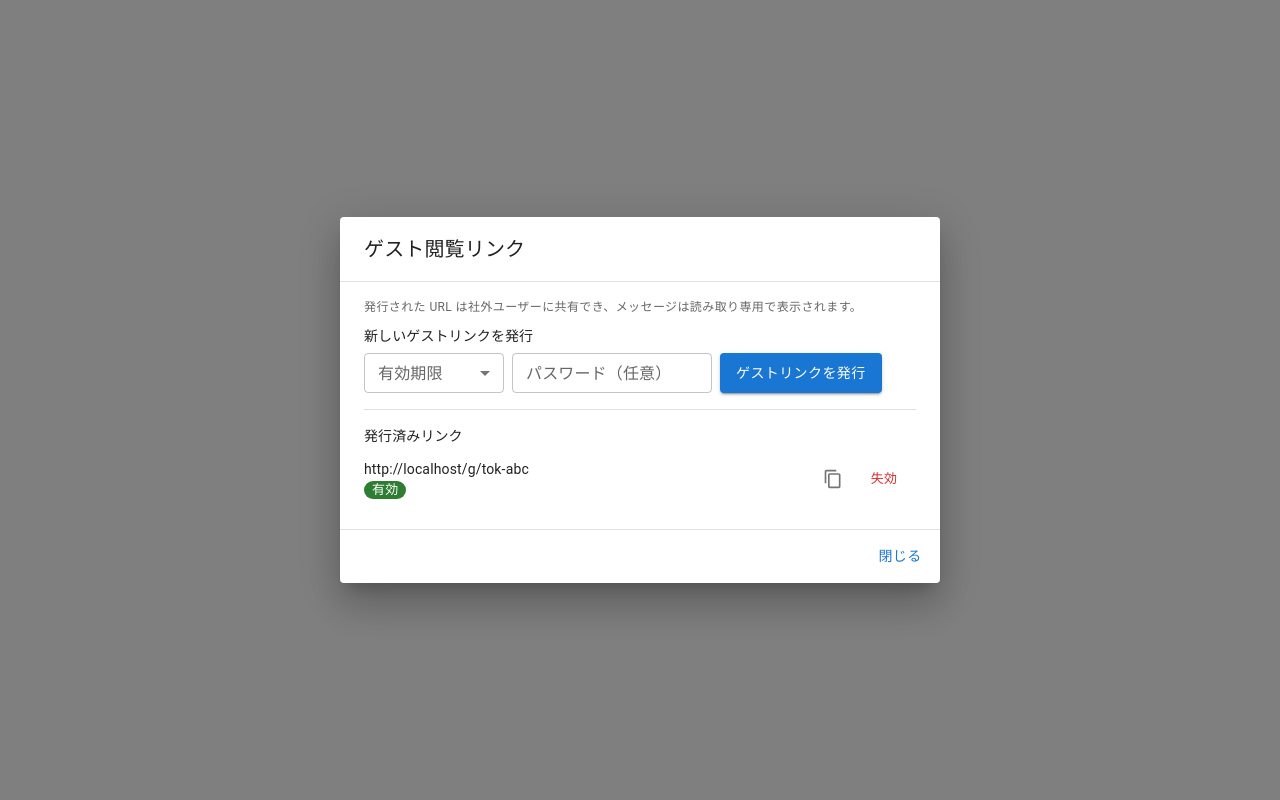
Test: GuestLinkDialog › 失効操作 › 失効後にリンクの状態が「無効」に更新される
Click the button "失効" at {"x": 884, "y": 479}, box [852, 464, 916, 494]
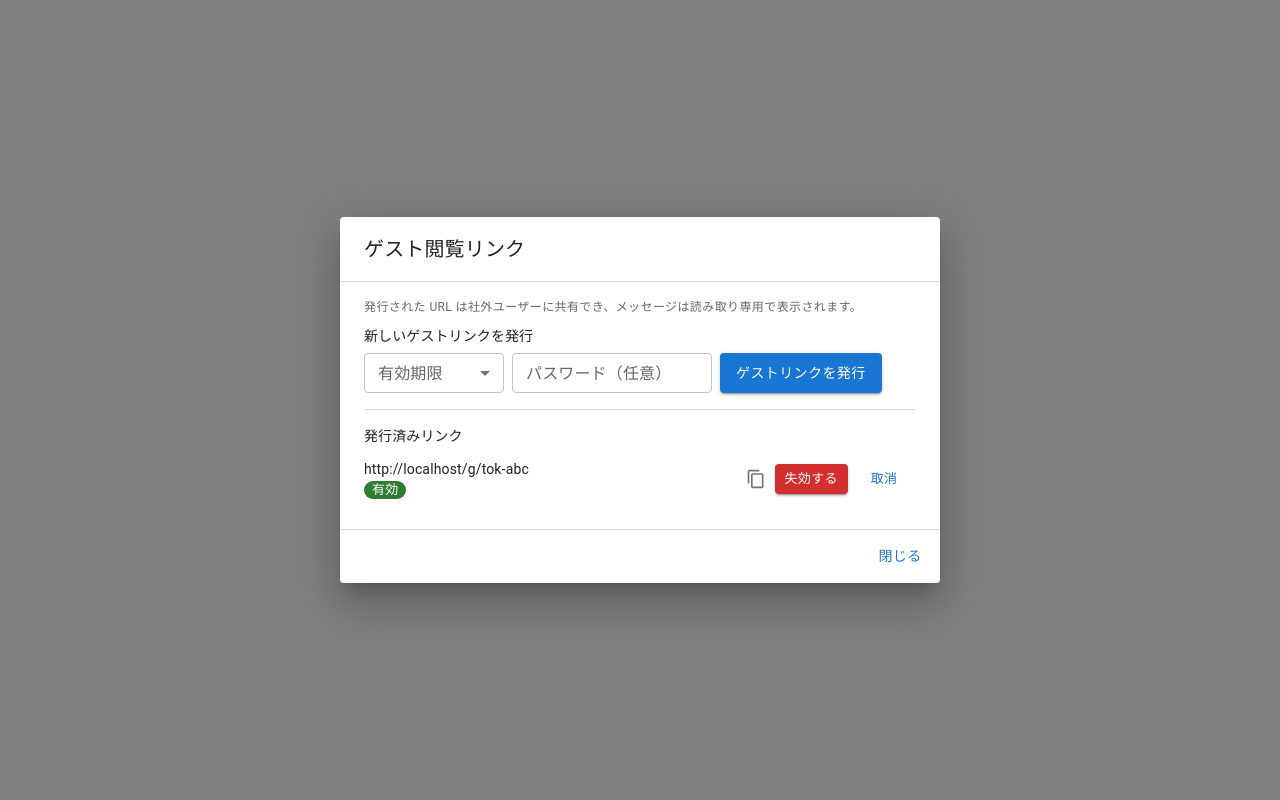
Click the button with aria-label "失効を確定" at {"x": 811, "y": 479}, box [774, 464, 848, 494]
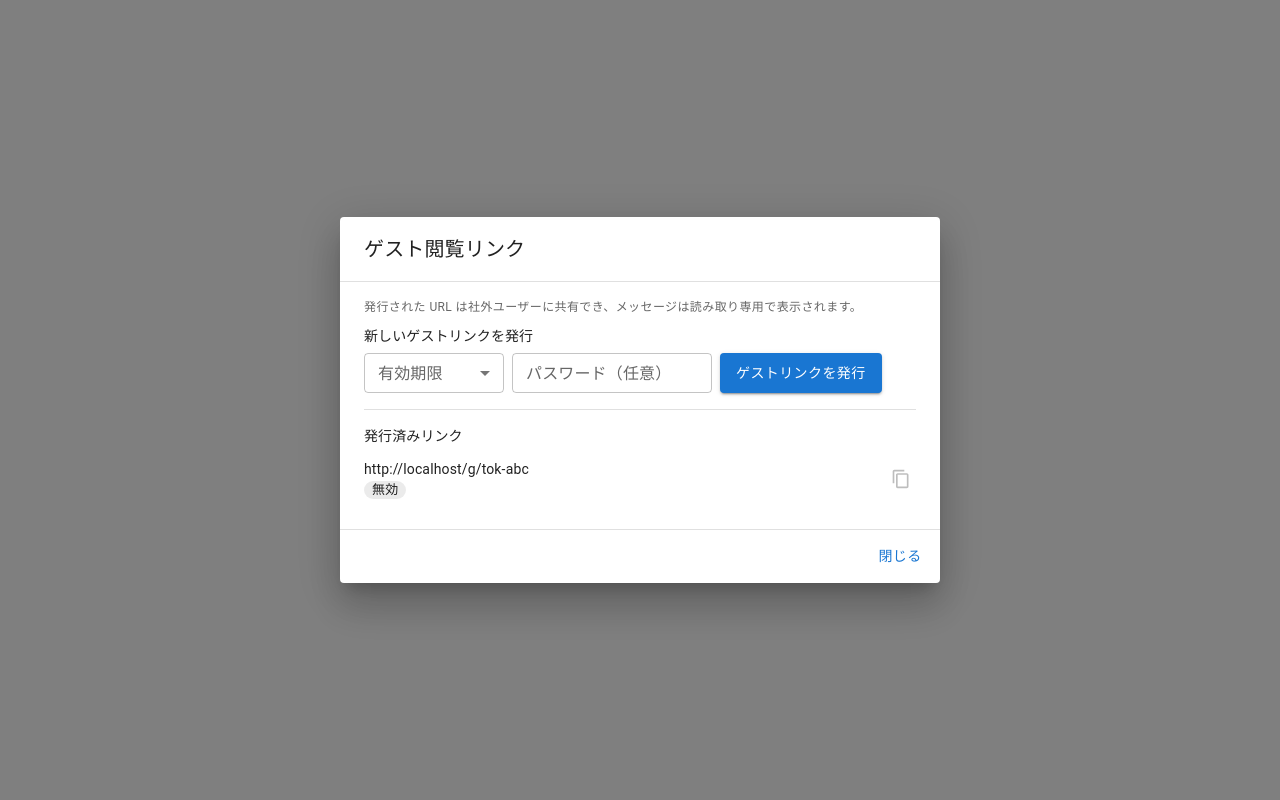
Result: the text "無効" is shown at [372, 482, 398, 497]
